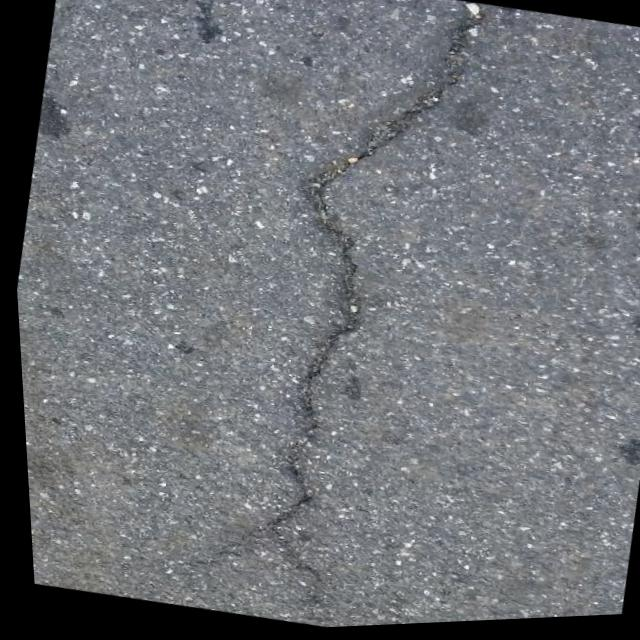Crack: (186, 0, 538, 613)
